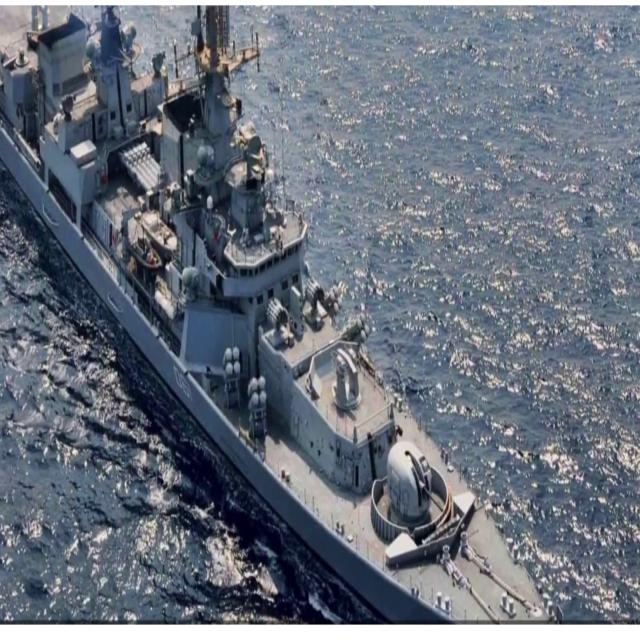OCR: (169, 360, 196, 408)
